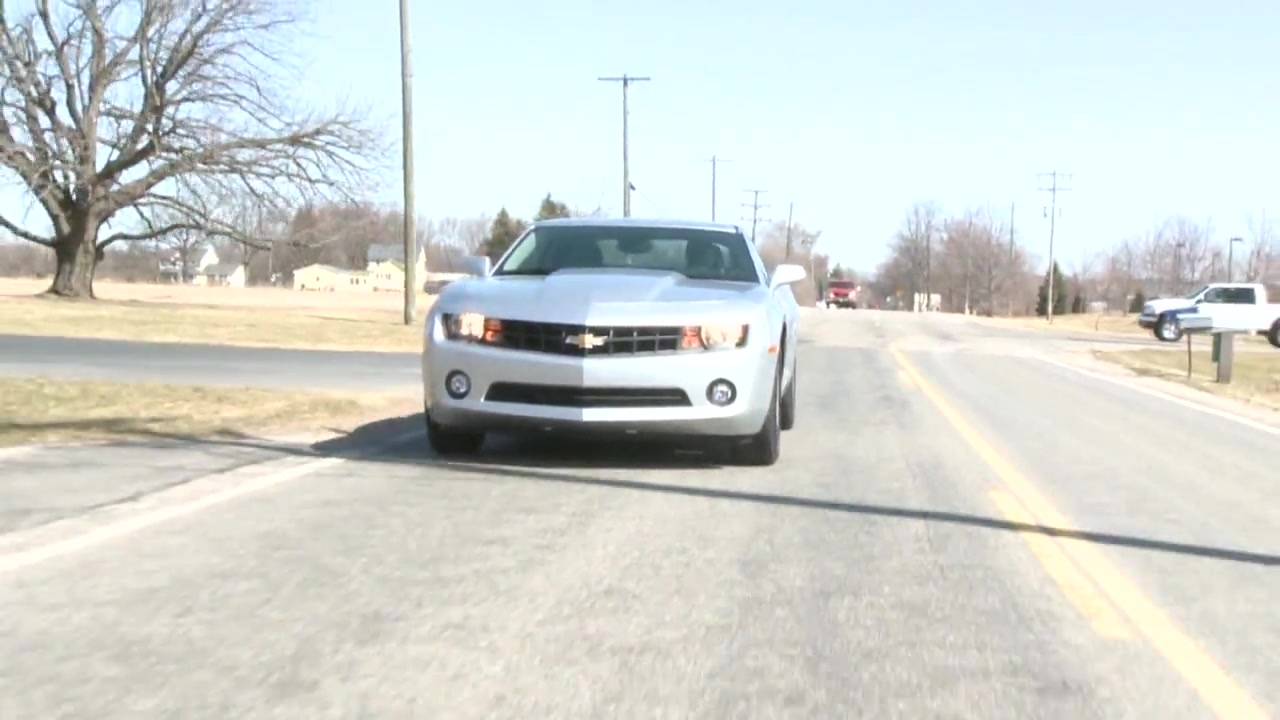car: (420, 215, 808, 471)
